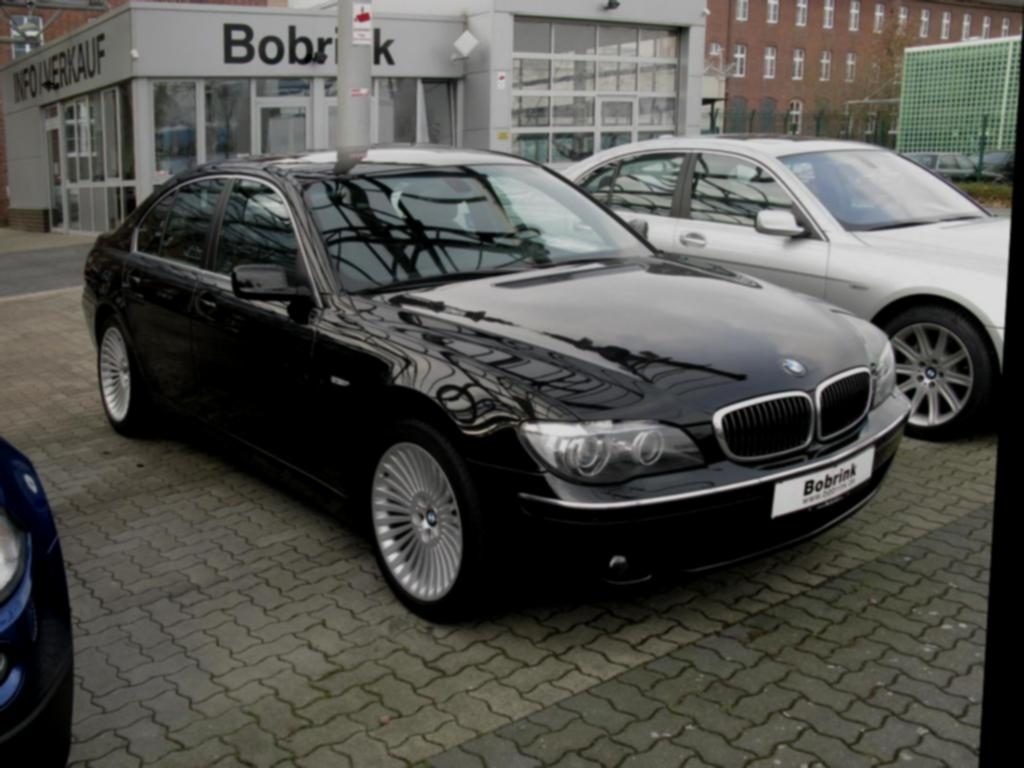License_Plate: (773, 447, 874, 519)
